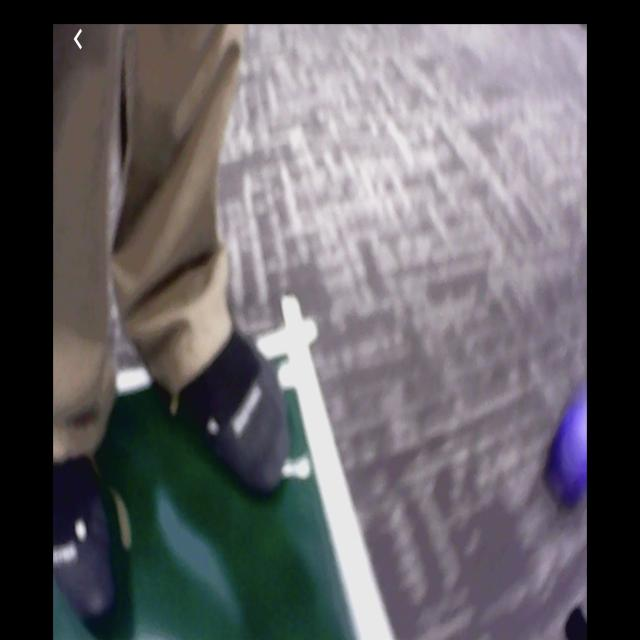ball: (548, 389, 587, 502)
